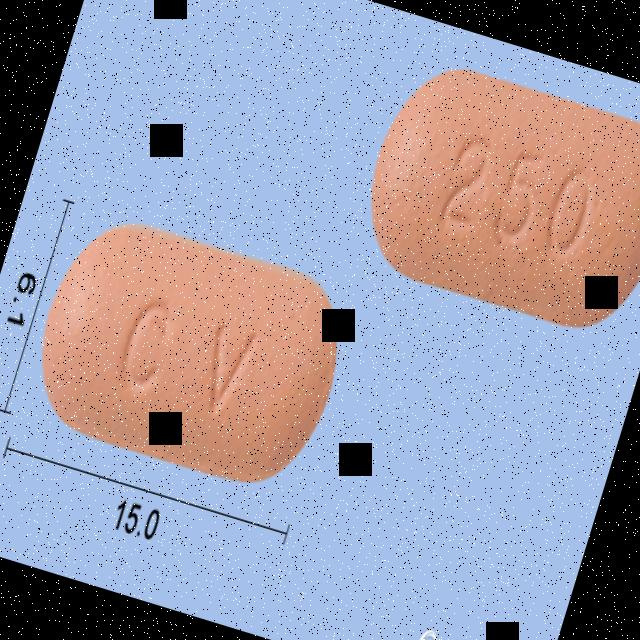Cravit - 500mg: (19, 205, 361, 500), (345, 48, 640, 345)
